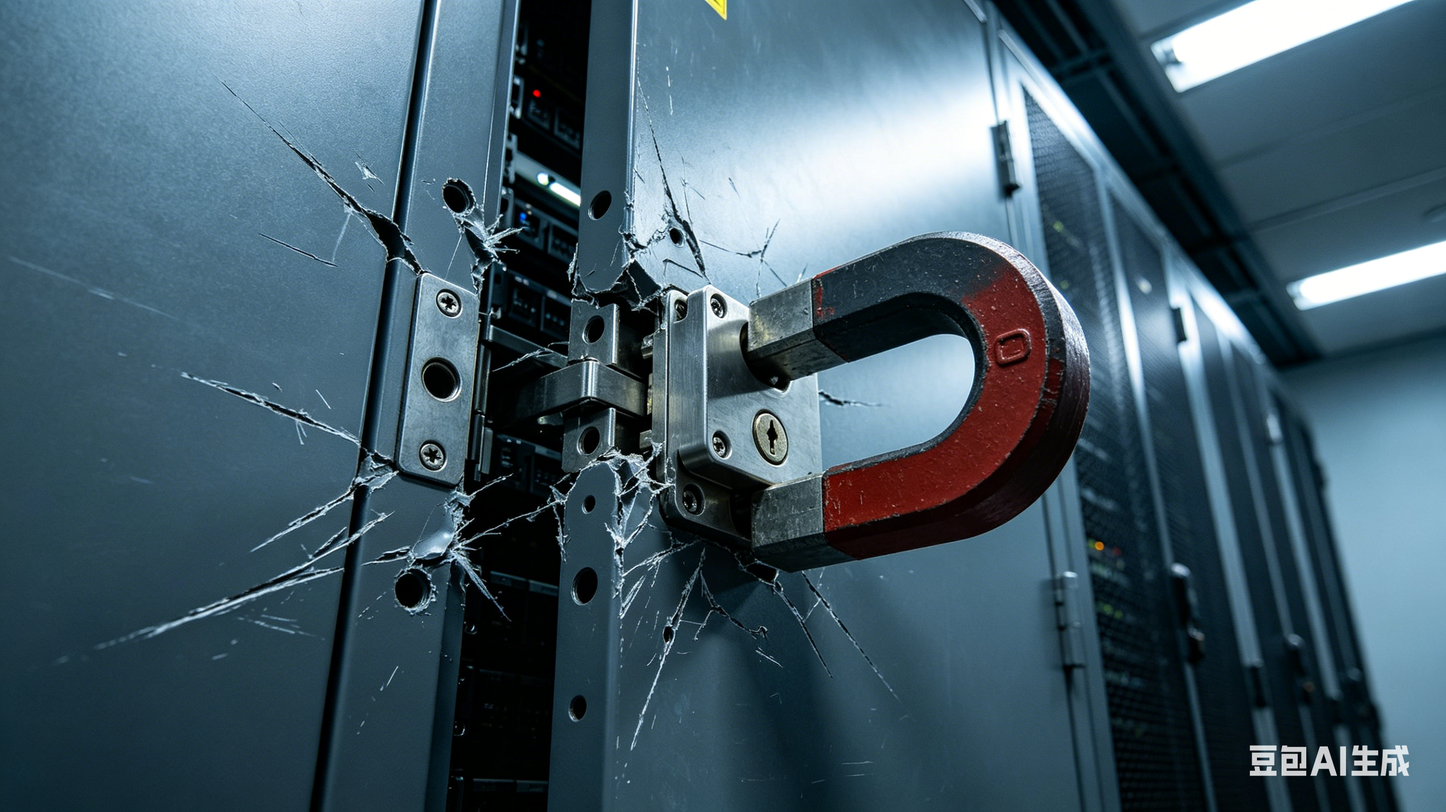BadLock: (448, 199, 656, 557)
